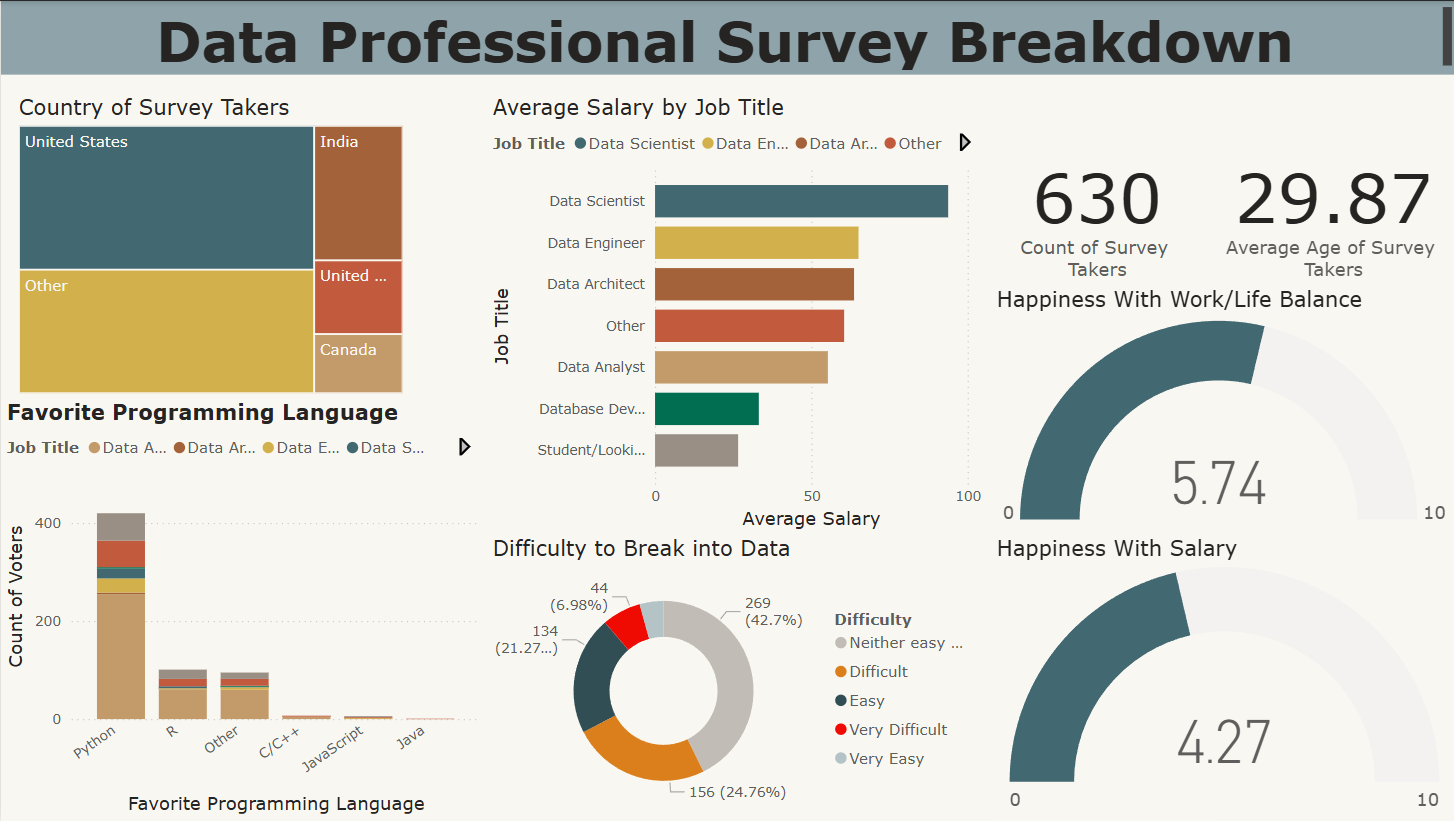

What the dashboard file says about the page in this screenshot:
{"tool":"powerbi","page":{"name":"Page 1","canvas":[1280,720],"ordinal":0},"visuals":[{"type":"textbox","box":[0,0,1279.3,64.8],"z":0},{"type":"card","fields":{"Values":["Count(Data Professional Survey.Unique ID)"]},"box":[865.4,81.5,194.4,194.4],"z":1000},{"type":"card","fields":{"Values":["Avg(Data Professional Survey.Q10 - Current Age)"]},"box":[1059.8,81.5,219.5,194.4],"z":2000},{"type":"barChart","title":"Average Salary by Job Title","fields":{"Category":["Data Professional Survey.Q1 - Which Title Best Fits your Current Role?.1"],"Y":["Avg(Data Professional Survey.Average Salary)"],"Series":["Data Professional Survey.Q1 - Which Title Best Fits your Current Role?.1"]},"box":[426.4,81.5,439,386.7],"z":3000},{"type":"columnChart","title":"Favorite Programming Language","fields":{"Category":["Data Professional Survey.Q5 - Favorite Programming Language.1"],"Y":["CountNonNull(Data Professional Survey.Unique ID)"],"Series":["Data Professional Survey.Q1 - Which Title Best Fits your Current Role?.1"]},"box":[0,349.1,426.4,370],"z":4000},{"type":"treemap","title":"Country of Survey Takers","fields":{"Group":["Data Professional Survey.Q11 - Which Country do you live in?.1"],"Values":["CountNonNull(Data Professional Survey.Q11 - Which Country do you live in?.1)"]},"box":[10.5,81.5,347,267.6],"z":5000},{"type":"gauge","title":"Happiness With Work/Life Balance","fields":{"Y":["Avg(Data Professional Survey.Q6 - How Happy are you in your Current Position with the following? (Work/Life Balance))"],"MinValue":["Min(Data Professional Survey.Q6 - How Happy are you in your Current Position with the following? (Work/Life Balance))1"],"MaxValue":["Max(Data Professional Survey.Q6 - How Happy are you in your Current Position with the following? (Work/Life Balance))2"]},"box":[869.6,250.8,409.7,217.4],"z":6000},{"type":"gauge","title":"Happiness With Salary","fields":{"Y":["Avg(Data Professional Survey.Q6 - How Happy are you in your Current Position with the following? (Salary))"],"MinValue":["Min(Data Professional Survey.Q6 - How Happy are you in your Current Position with the following? (Salary))"],"MaxValue":["Max(Data Professional Survey.Q6 - How Happy are you in your Current Position with the following? (Salary))"]},"box":[869.6,468.2,409.7,250.8],"z":7000},{"type":"donutChart","title":"Difficulty to Break into Data","fields":{"Category":["Data Professional Survey.Q7 - How difficult was it for you to break into Data?"],"Y":["CountNonNull(Data Professional Survey.Q7 - How difficult was it for you to break into Data?)"]},"box":[426.4,468.2,439,250.8],"z":8000}]}

Visuals, with their boxes in screenshot pixels (x1, y1, x2, y2), scaled from the page's 1280x720 canvas onto the 1454x821 screenshot:
textbox: 0,0,1453,74
card - Count(Data Professional Survey.Unique ID): 983,93,1204,315
card - Avg(Data Professional Survey.Q10 - Current Age): 1204,93,1453,315
"Average Salary by Job Title" barChart: 484,93,983,534
"Favorite Programming Language" columnChart: 0,398,484,820
"Country of Survey Takers" treemap: 12,93,406,398
"Happiness With Work/Life Balance" gauge: 988,286,1453,534
"Happiness With Salary" gauge: 988,534,1453,820
"Difficulty to Break into Data" donutChart: 484,534,983,820
